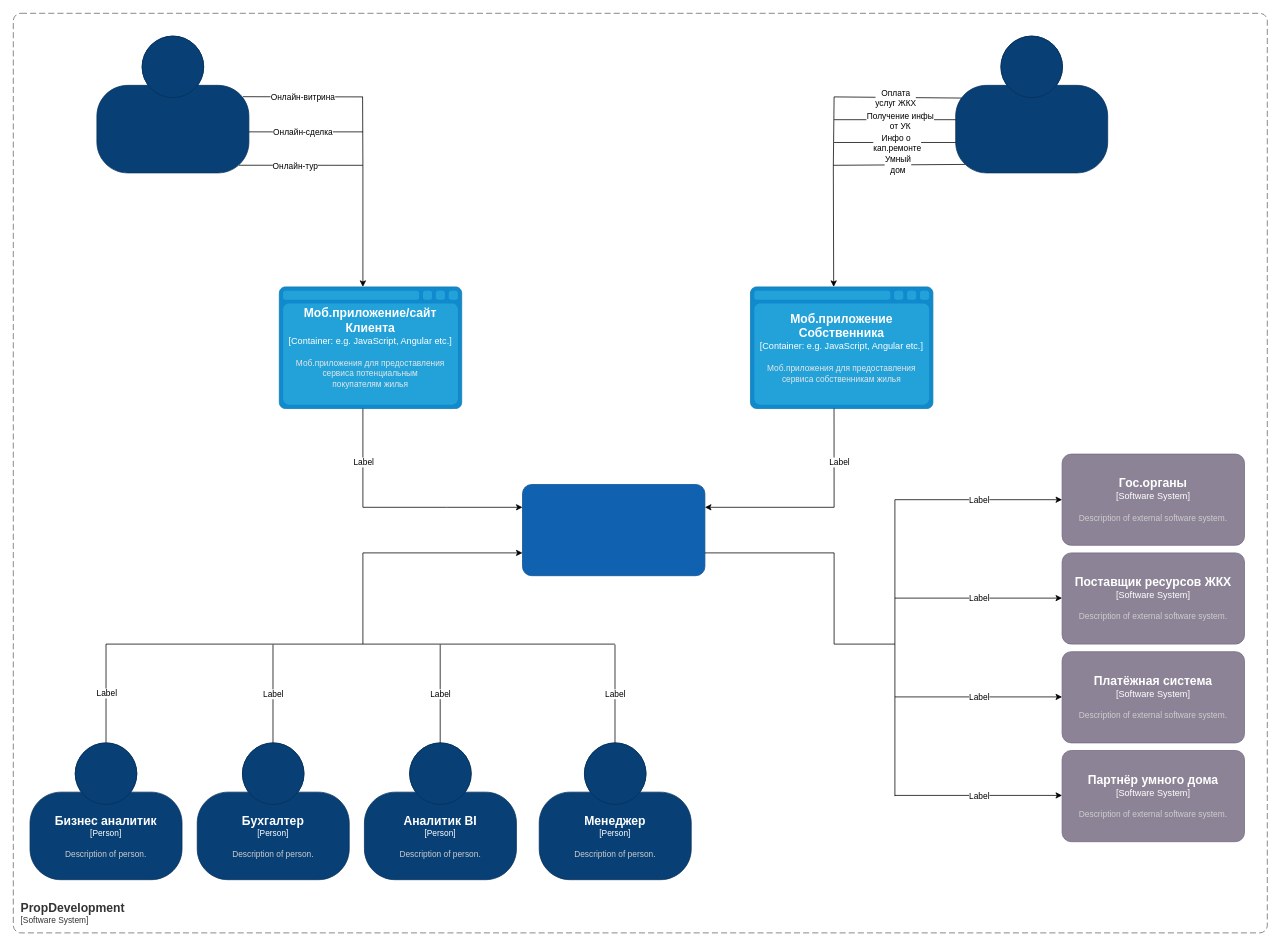
Image size: 1281x946. Some labels were removed from this diagram. Each missing label, with the centre of its shape:
"Back-end компании [Software System] Генерирует и обрабатывает данные компании" belongs at (613,530).
"Клиент [Person] Потенциальные покупатели жилья" belongs at (172,104).
"Собственник [Person] Пользователь системы, роль собственник жилья ЖК компании" belongs at (1031,104).
